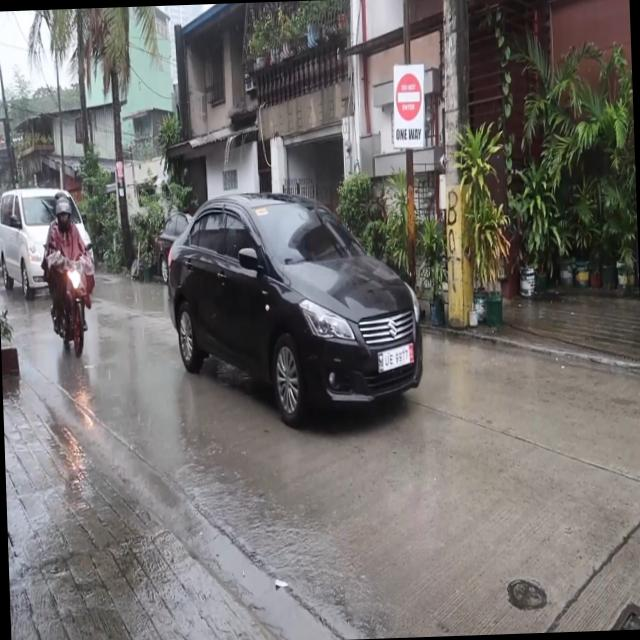full: (54, 196, 73, 232)
